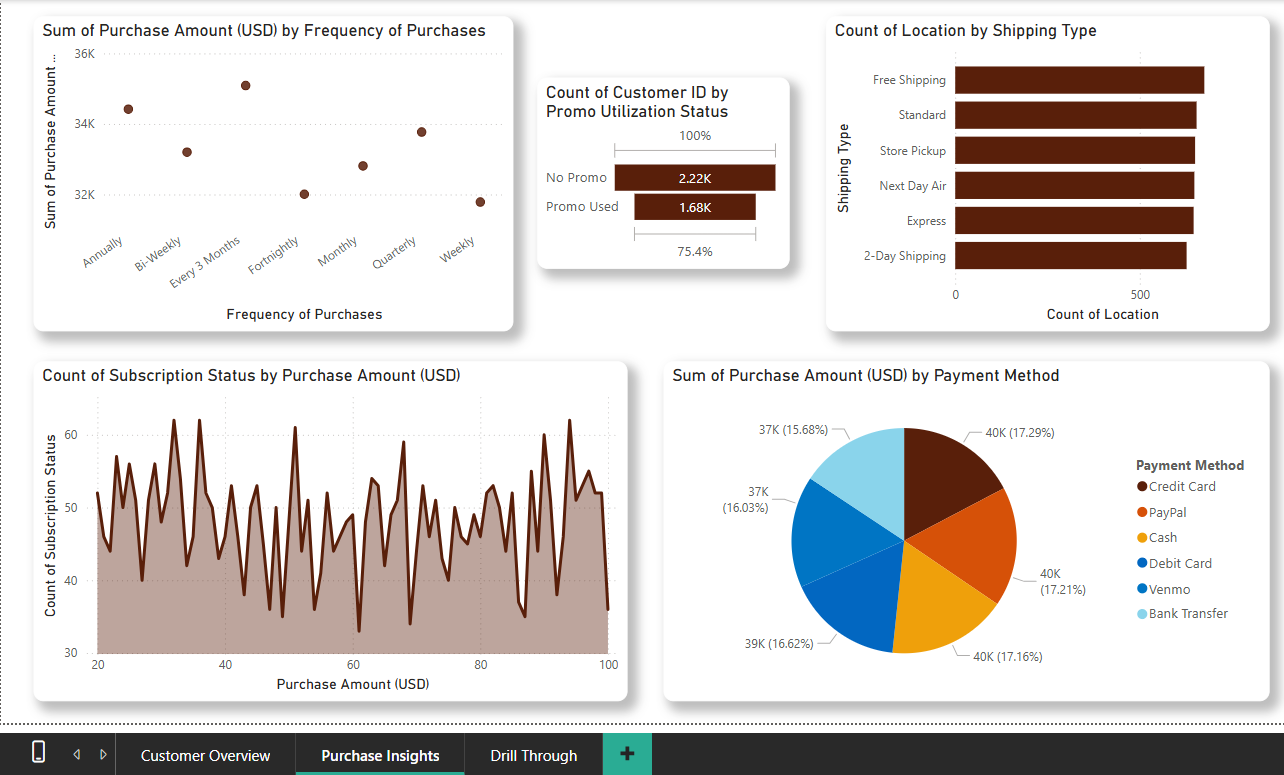

The dashboard page shown, as its layout file describes it:
{"tool":"powerbi","page":{"name":"Purchase Insights","canvas":[1280,720],"ordinal":1},"visuals":[{"type":"scatterChart","fields":{"X":["shopping_trends_updated.Frequency of Purchases"],"Y":["Sum(shopping_trends_updated.Purchase Amount (USD))"]},"box":[32.3,16.2,477.7,313.5],"z":0},{"type":"pieChart","fields":{"Y":["Sum(shopping_trends_updated.Purchase Amount (USD))"],"Category":["shopping_trends_updated.Payment Method"]},"box":[659.3,359.5,603.3,338.4],"z":1},{"type":"funnel","fields":{"Category":["shopping_trends_updated.Promo Utilization Status"],"Y":["CountNonNull(shopping_trends_updated.Customer ID)"]},"box":[533.7,77.1,251.3,190.3],"z":2},{"type":"barChart","fields":{"Category":["shopping_trends_updated.Shipping Type"],"Y":["CountNonNull(shopping_trends_updated.Location)"]},"box":[821,16.2,441.6,313.5],"z":3},{"type":"areaChart","fields":{"Category":["shopping_trends_updated.Purchase Amount (USD)"],"Y":["CountNonNull(shopping_trends_updated.Subscription Status)"]},"box":[32.3,359.5,590.9,338.4],"z":4}]}

Visuals, with their boxes on the page's 1280x720 design canvas (x1, y1, x2, y2). These are canvas units, not pixel positions in the 1284x775 screenshot, which may show the page scaled, cropped or inside an application window:
scatterChart - shopping_trends_updated.Frequency of Purchases x Sum(shopping_trends_updated.Purchase Amount (USD)): [32,16,510,330]
pieChart - Sum(shopping_trends_updated.Purchase Amount (USD)) x shopping_trends_updated.Payment Method: [659,360,1263,698]
funnel - shopping_trends_updated.Promo Utilization Status x CountNonNull(shopping_trends_updated.Customer ID): [534,77,785,267]
barChart - shopping_trends_updated.Shipping Type x CountNonNull(shopping_trends_updated.Location): [821,16,1263,330]
areaChart - shopping_trends_updated.Purchase Amount (USD) x CountNonNull(shopping_trends_updated.Subscription Status): [32,360,623,698]
